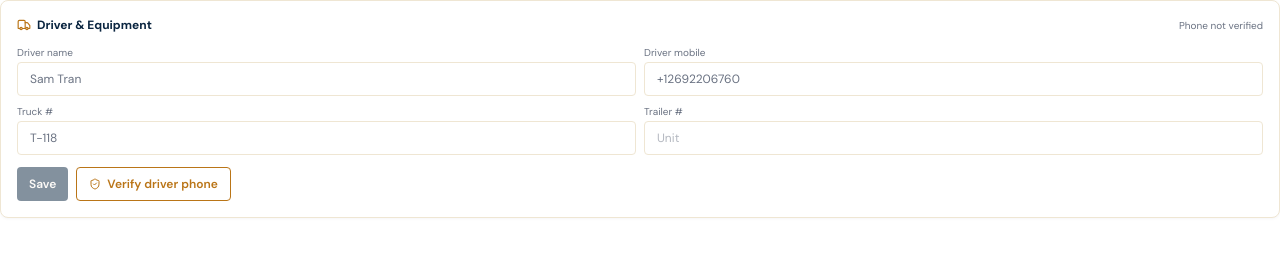
Scenario: DriverAssignmentPanel › Save PATCHes only the fields the carrier changed
Type " R-22 " into the field labelled "Trailer #". click: (954, 138)
box: 644,121 -> 1263,155
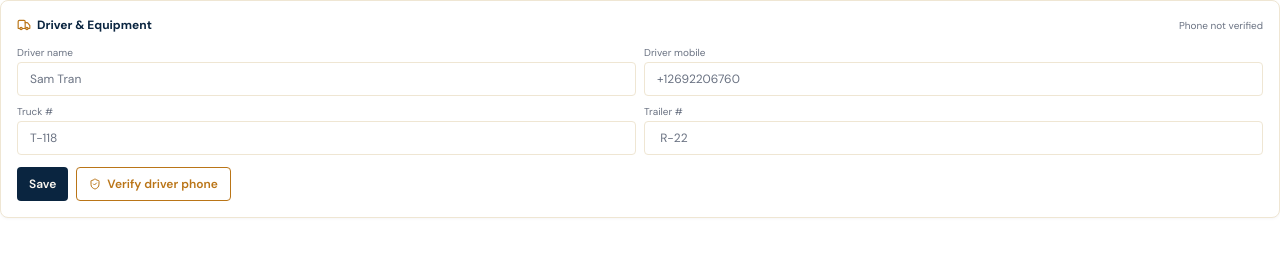
Check: the button "Save" is enabled
Click the button "Save". click: (43, 184)
box: 17,167 -> 68,201
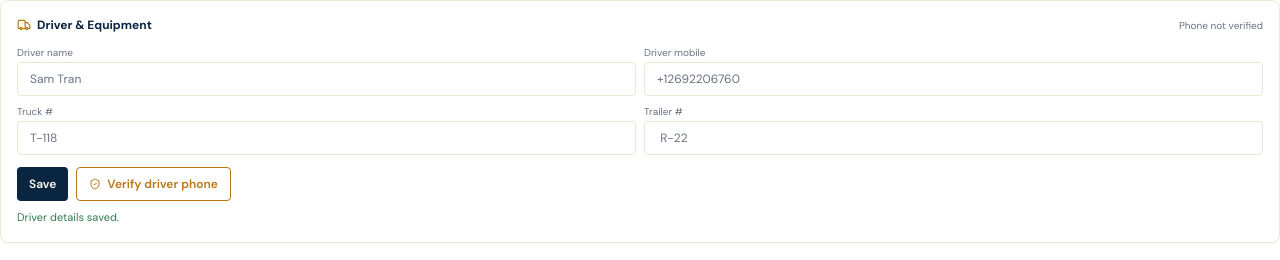
Check: the text "Driver details saved." is shown, box 17,210 -> 119,224
